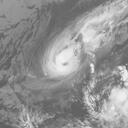cyclone: (40, 34, 88, 79)
